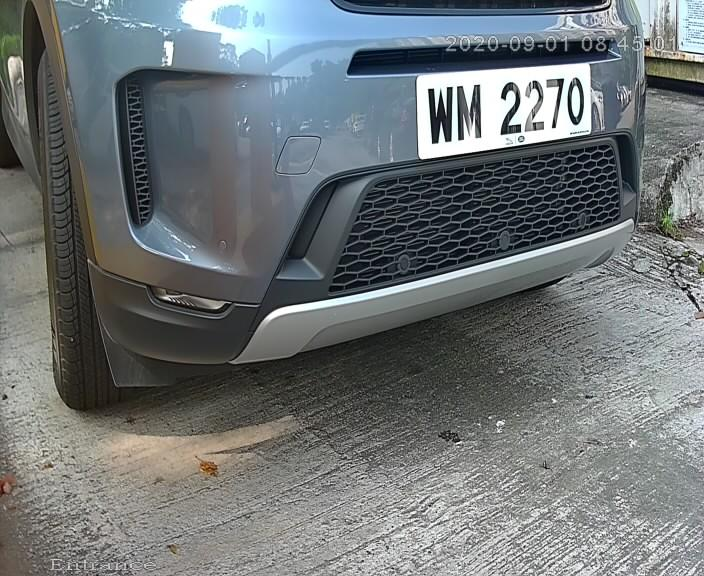License Plate: (415, 47, 598, 168)
